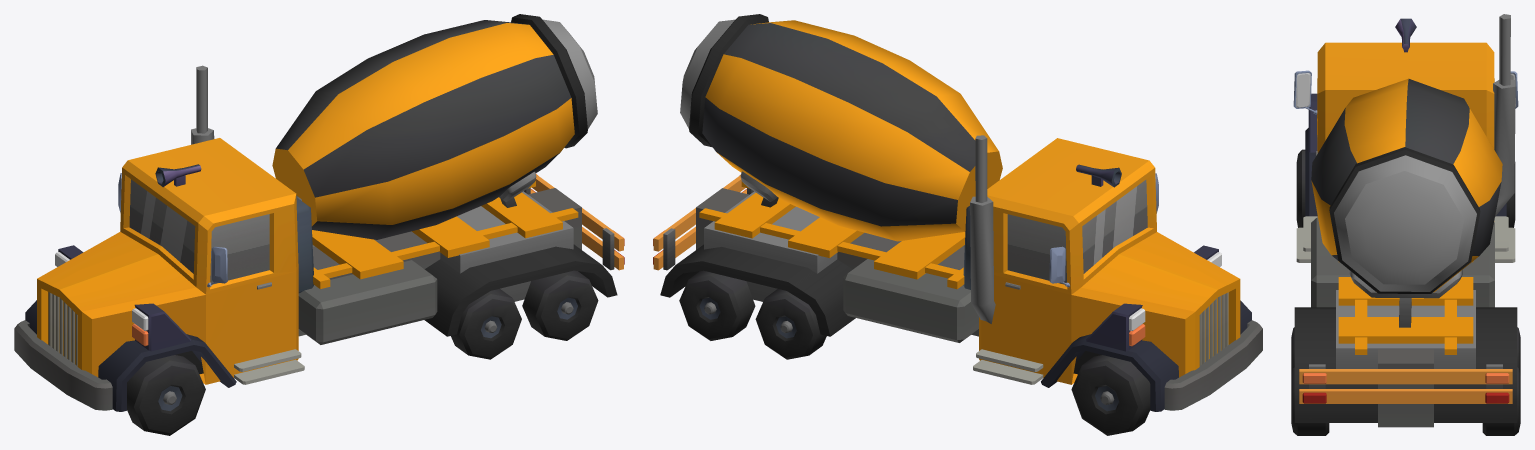
The model's file is CementTruck.fbx.
3 renders of one model, left to right at view 1: azimuth 30°, elevation 25°; view 2: azimuth 150°, elevation 25°; view 3: azimuth 270°, elevation 25°, orthographic. The views are drawn at different scales.
Visible parts, largest first — view 1: ConcrateTruck, FL, RL, ML; view 2: ConcrateTruck, FR, RR, MR; view 3: ConcrateTruck, FL, RR, RL, FR.
Boxes of the visible parts, x1,y1,x2,y2 form: ConcrateTruck: (14, 14, 624, 411); FL: (127, 355, 205, 435); RL: (522, 270, 598, 340); ML: (451, 288, 521, 359); ConcrateTruck: (653, 14, 1262, 411); FR: (1071, 355, 1150, 435); RR: (679, 270, 755, 340); MR: (755, 289, 826, 359); ConcrateTruck: (1293, 14, 1518, 427); FL: (1296, 149, 1305, 227); RR: (1482, 367, 1520, 435); RL: (1291, 367, 1329, 435); FR: (1506, 162, 1515, 227).
Size of the model in its own units: 5.9 by 2.99 by 2.08.
